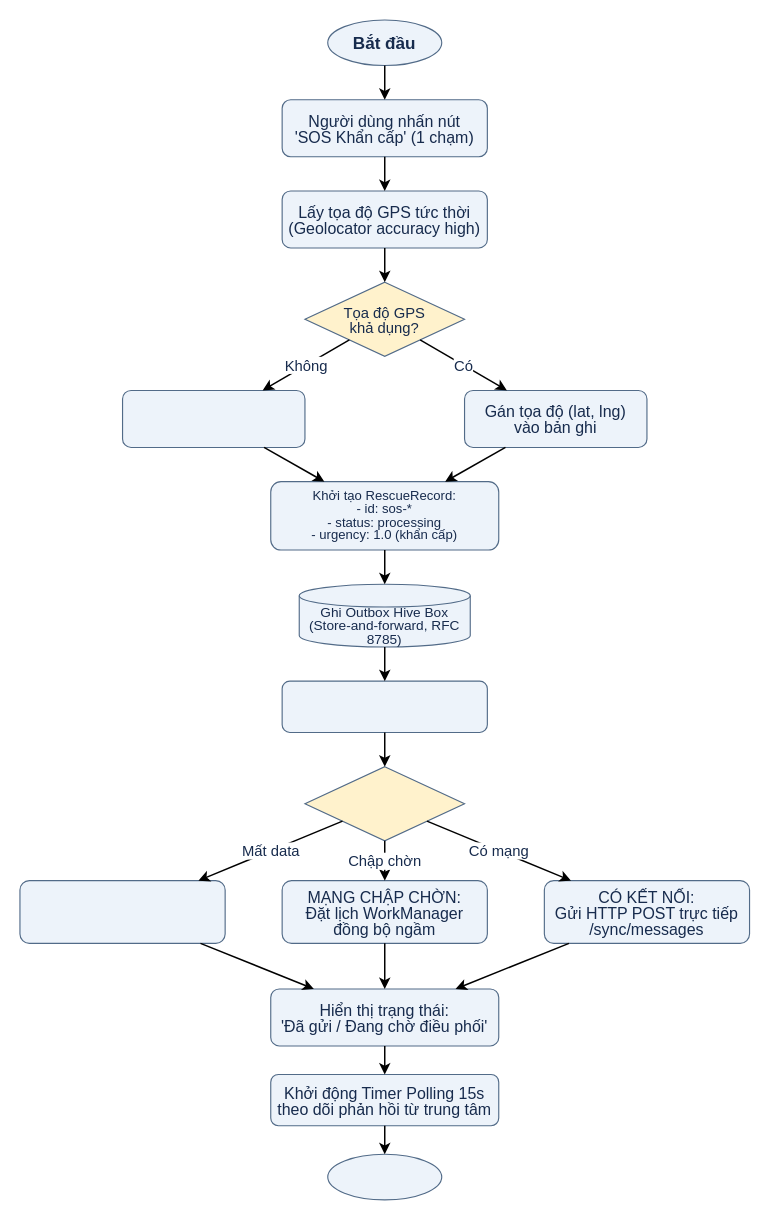
Some shapes in this 770 by 1220 pixel diagram are drawn without their labels. The shapes that lost their labels are listed below. From the top down, each one's box as (x1, y1, x2, y2) in pixels, then its label:
(121, 389, 305, 447): Đặt lat/lng = null (chờ tổng đài định vị)
(281, 680, 487, 732): Đo thông lượng mạng (GET /probe 64 KB)
(304, 766, 465, 841): Đánh giá kết nối mạng?
(19, 880, 225, 943): MẤT MẠNG: Gửi tin SMS cứu nạn tới hotline tổng đài
(327, 1153, 442, 1200): Kết thúc
